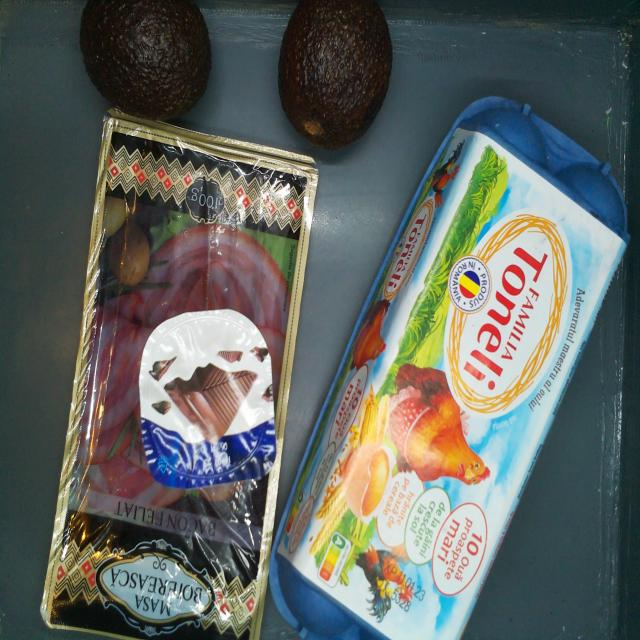avocado: (278, 0, 393, 148), (82, 0, 210, 117)
bacon: (46, 107, 316, 640)
eggs: (269, 95, 629, 640)
yogurt: (140, 308, 276, 487)
